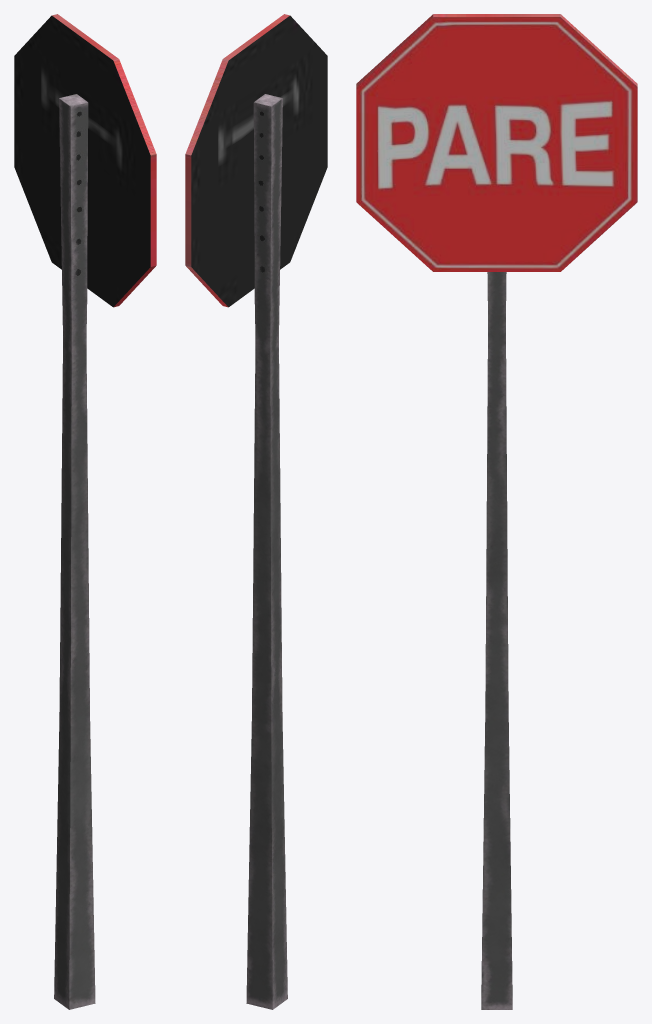
The model's file is placa_pare.fbx.
The picture shows the model from 3 angles, left to right: view 1: azimuth 30°, elevation 25°; view 2: azimuth 150°, elevation 25°; view 3: azimuth 270°, elevation 25°; orthographic projection. The views are drawn at different scales.
Parts seen in each view (by area): view 1: Cube, Plane; view 2: Cube, Plane; view 3: Plane, Cube.
Part boxes in pixels (left/top/right/bottom): Cube: left=54, top=94, right=95, bottom=1009; Plane: left=14, top=14, right=156, bottom=307; Cube: left=246, top=94, right=287, bottom=1009; Plane: left=185, top=14, right=327, bottom=307; Plane: left=356, top=14, right=637, bottom=271; Cube: left=481, top=272, right=512, bottom=1009.
Bounding box in the file's own units: 29.11 × 998 × 256.
